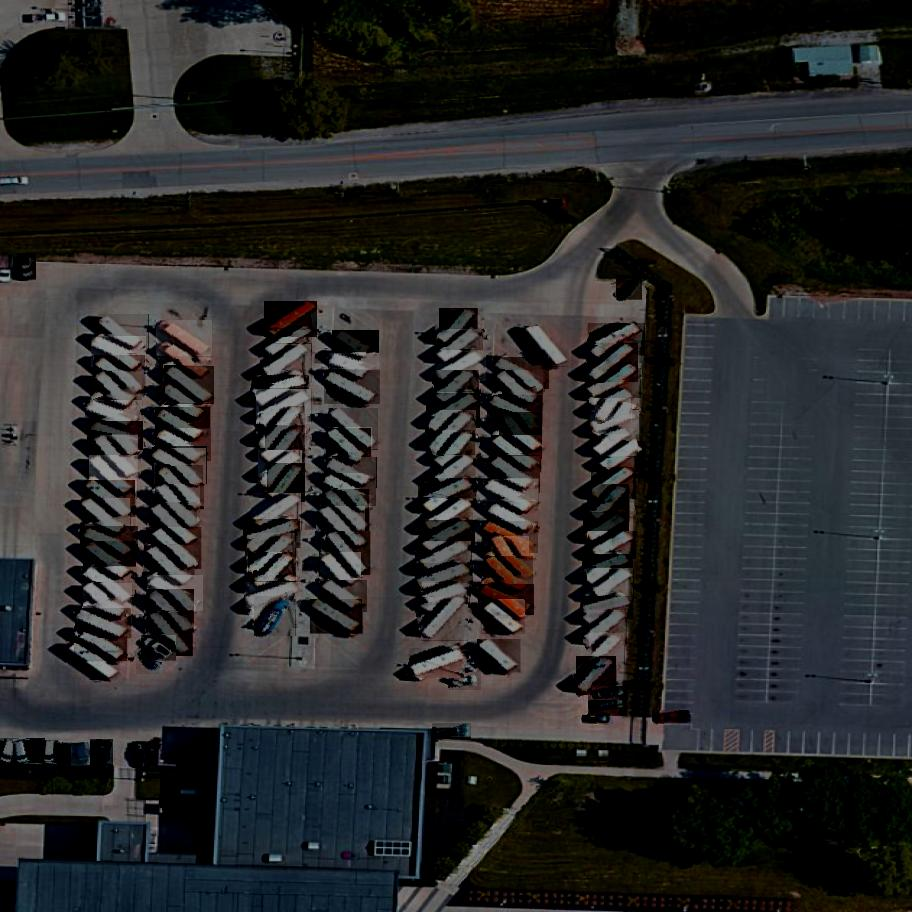large-vehicle: (145, 542, 197, 592), (156, 462, 205, 514), (162, 333, 207, 389), (93, 368, 143, 418), (149, 499, 198, 550), (329, 405, 380, 454), (161, 377, 209, 429), (67, 639, 122, 684), (81, 539, 136, 584), (249, 550, 298, 600), (421, 594, 470, 644), (151, 524, 202, 572), (247, 532, 298, 580), (146, 587, 195, 636), (90, 452, 139, 501), (260, 404, 307, 455), (80, 495, 131, 542), (156, 318, 213, 360), (148, 608, 194, 660), (155, 480, 200, 533), (318, 503, 365, 553), (92, 432, 139, 482), (83, 580, 133, 627), (494, 367, 544, 414), (99, 311, 150, 357), (429, 408, 476, 457), (484, 554, 533, 601), (524, 322, 570, 372), (326, 528, 371, 579), (499, 409, 542, 462), (264, 299, 318, 341), (152, 446, 207, 487), (324, 486, 370, 535), (95, 353, 146, 397), (74, 624, 128, 665), (148, 573, 203, 613), (257, 387, 312, 427), (588, 341, 638, 385), (491, 433, 542, 476), (155, 406, 211, 445), (260, 343, 312, 385), (85, 477, 137, 519), (154, 427, 211, 465), (164, 365, 214, 408), (82, 565, 137, 604), (489, 454, 541, 495), (421, 497, 474, 537), (588, 321, 645, 358), (427, 391, 481, 430), (251, 492, 302, 533), (325, 368, 380, 406), (420, 518, 476, 555), (493, 355, 550, 391), (418, 477, 476, 512), (311, 597, 363, 636), (320, 548, 363, 595), (487, 393, 543, 429), (483, 519, 539, 555), (492, 533, 530, 586), (322, 472, 376, 509), (415, 540, 472, 575), (326, 426, 371, 469), (265, 423, 306, 470), (587, 566, 634, 607), (487, 500, 539, 537), (409, 647, 469, 679), (80, 525, 138, 558), (586, 367, 642, 401), (435, 368, 480, 410), (75, 607, 132, 640), (437, 328, 484, 368), (485, 478, 540, 512), (479, 583, 534, 617), (320, 578, 369, 616), (439, 305, 480, 350), (92, 336, 147, 369), (583, 609, 628, 649), (477, 636, 522, 676), (85, 398, 143, 429), (436, 349, 487, 384), (244, 519, 301, 550), (577, 654, 617, 698), (437, 428, 477, 472), (482, 598, 526, 638), (267, 460, 306, 505), (593, 421, 638, 460), (267, 322, 313, 360), (595, 380, 633, 426), (431, 453, 477, 491), (415, 562, 473, 592), (591, 465, 638, 502), (87, 421, 143, 452), (332, 328, 380, 364), (251, 375, 310, 404), (327, 455, 377, 489), (246, 581, 302, 611), (259, 449, 303, 487), (591, 485, 631, 526), (600, 440, 646, 474), (584, 512, 630, 546), (588, 530, 636, 562), (582, 552, 633, 582), (589, 631, 625, 670), (329, 352, 379, 379), (422, 582, 470, 610), (590, 409, 639, 436), (581, 596, 633, 621)
small-vehicle: (255, 591, 297, 641), (142, 633, 177, 664), (589, 695, 629, 718), (616, 274, 644, 304), (432, 723, 472, 742), (89, 740, 114, 768), (136, 648, 159, 677), (71, 741, 94, 769), (132, 740, 153, 769), (448, 673, 483, 690), (0, 738, 20, 767), (17, 253, 37, 281), (57, 742, 78, 767), (592, 686, 627, 701), (27, 738, 47, 764), (13, 739, 31, 765), (653, 711, 690, 723), (582, 714, 612, 724), (45, 740, 58, 762)
